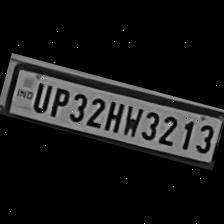1: (172, 115, 197, 150)
2: (154, 110, 182, 148), (82, 92, 108, 130)
3: (190, 119, 217, 156), (64, 88, 91, 124), (136, 106, 162, 142)
H: (100, 96, 126, 134)
P: (46, 82, 72, 120)
U: (27, 78, 54, 114)
W: (119, 100, 145, 139)
